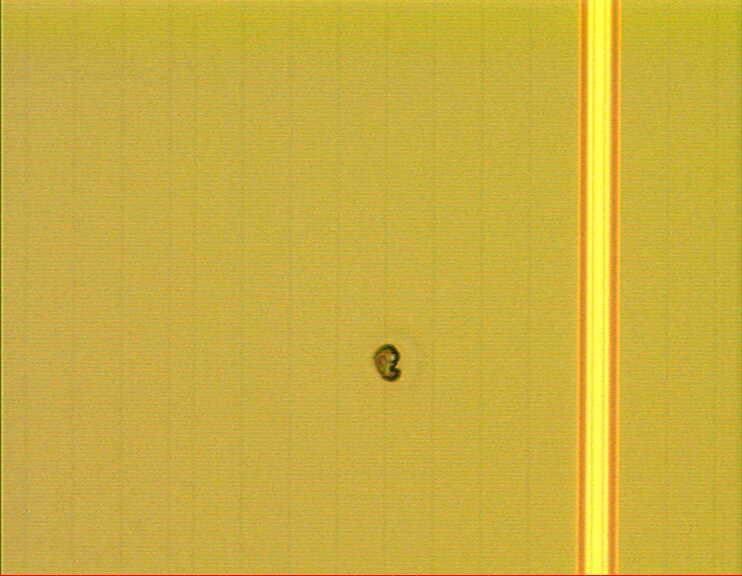PIQ PARTICLE: (367, 342, 411, 386)
